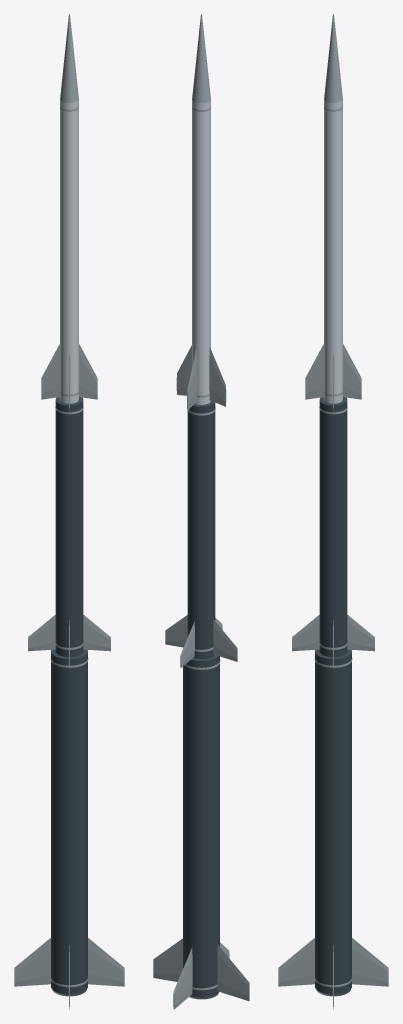
File: rocket.glb
The picture shows the model from 3 angles, left to right: view 1: azimuth 90°, elevation 25°; view 2: azimuth 150°, elevation 25°; view 3: azimuth 270°, elevation 25°; orthographic projection.
Visible parts, largest first — view 1: Stage 1 airframe, Stage 2 airframe, Stage 3 airframe, Stage 1 fin 2, Stage 1 fin 4, Rounded conical nose, Stage 3 fin 2, Stage 3 fin 4, Stage 2 fin 2, Stage 2 fin 4; view 2: Stage 1 airframe, Stage 2 airframe, Stage 3 airframe, Stage 1 fin 3, Rounded conical nose, Stage 1 fin 1, Stage 3 fin 3, Stage 1 fin 2, Stage 2 fin 3, Stage 2 fin 1, Stage 3 fin 1, Stage 3 fin 2 (+1 smaller); view 3: Stage 1 airframe, Stage 2 airframe, Stage 3 airframe, Stage 1 fin 2, Stage 1 fin 4, Rounded conical nose, Stage 3 fin 2, Stage 3 fin 4, Stage 2 fin 2, Stage 2 fin 4.
Boxes of the visible parts, box(x1,y1,x2,y2) form: Stage 1 airframe: box(51, 649, 87, 994); Stage 2 airframe: box(55, 397, 83, 656); Stage 3 airframe: box(60, 99, 78, 403); Stage 1 fin 2: box(14, 938, 50, 986); Stage 1 fin 4: box(88, 938, 124, 986); Rounded conical nose: box(60, 14, 78, 102); Stage 3 fin 2: box(41, 344, 59, 399); Stage 3 fin 4: box(79, 344, 97, 399); Stage 2 fin 2: box(28, 615, 55, 651); Stage 2 fin 4: box(83, 615, 110, 651); Stage 1 airframe: box(183, 655, 219, 997); Stage 2 airframe: box(187, 401, 215, 658); Stage 3 airframe: box(192, 100, 210, 404); Stage 1 fin 3: box(217, 945, 249, 1001); Rounded conical nose: box(192, 14, 210, 102); Stage 1 fin 1: box(153, 938, 182, 981); Stage 3 fin 3: box(209, 347, 226, 406); Stage 1 fin 2: box(173, 947, 192, 1009); Stage 2 fin 3: box(213, 620, 237, 661); Stage 2 fin 1: box(165, 615, 187, 647); Stage 3 fin 1: box(176, 345, 191, 395); Stage 3 fin 2: box(187, 349, 197, 410); Stage 1 airframe: box(315, 649, 351, 994); Stage 2 airframe: box(319, 397, 347, 656); Stage 3 airframe: box(324, 99, 342, 403); Stage 1 fin 2: box(352, 938, 388, 986); Stage 1 fin 4: box(278, 938, 314, 986); Rounded conical nose: box(324, 14, 342, 102); Stage 3 fin 2: box(343, 344, 361, 399); Stage 3 fin 4: box(305, 344, 323, 399); Stage 2 fin 2: box(347, 615, 374, 651); Stage 2 fin 4: box(292, 615, 319, 651).
Bounding box in the file's own units: 0.597 × 5.83 × 0.597.
